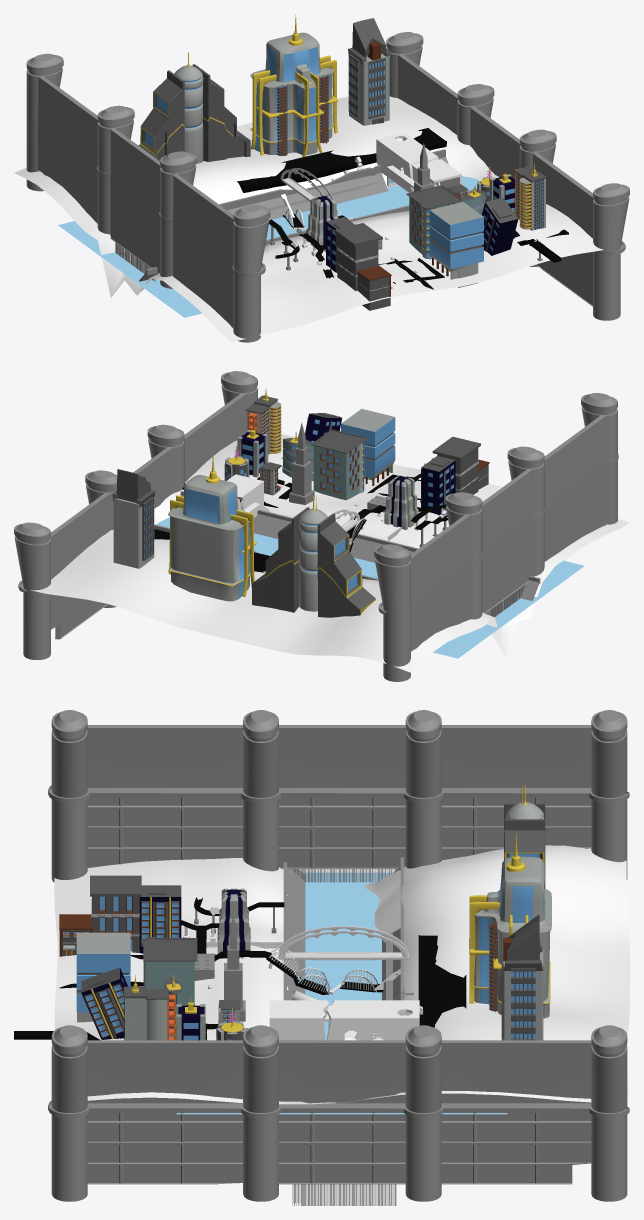
The model's file is NotFishAssets 1.fbx.
3 views of the same model, one above another, from view 1: azimuth 30°, elevation 25°; view 2: azimuth 150°, elevation 25°; view 3: azimuth 270°, elevation 25° (orthographic). The views are drawn at different scales.
Parts seen in each view (by area): view 1: GrandeBarragemDeAgua, Terreno, GrandeBarragemDeAgua.001, Predio, Cylinder.003, Agua, Decoração, Predio4, PredioCaido, SegundaRua, Predio.002, Predio2 (+17 smaller); view 2: GrandeBarragemDeAgua, Terreno, GrandeBarragemDeAgua.001, Predio, Cylinder.003, Predio5, Predio.002, Agua, Predio4, Decoração, Cylinder.002, Predio2 (+11 smaller); view 3: GrandeBarragemDeAgua.001, GrandeBarragemDeAgua, Terreno, Agua, Predio, PredioCaido, Decoração, Predio2, Predio.002, Predio4, SegundaRua, Predio5 (+13 smaller).
Boxes of the visible parts, box(x1,y1,x2,y2) form: GrandeBarragemDeAgua: box(26, 53, 270, 342); Terreno: box(14, 96, 603, 341); GrandeBarragemDeAgua.001: box(386, 32, 629, 320); Predio: box(250, 15, 338, 156); Cylinder.003: box(138, 64, 250, 161); Agua: box(58, 176, 480, 317); Decoração: box(121, 149, 477, 281); Predio4: box(429, 202, 483, 287); PredioCaido: box(376, 132, 461, 192); SegundaRua: box(237, 128, 446, 192); Predio.002: box(348, 18, 390, 125); Predio2: box(334, 223, 382, 290); GrandeBarragemDeAgua: box(374, 393, 618, 681); Terreno: box(31, 434, 629, 672); GrandeBarragemDeAgua.001: box(14, 371, 257, 659); Predio: box(167, 453, 256, 601); Cylinder.003: box(251, 507, 375, 617); Predio5: box(311, 429, 366, 499); Predio.002: box(112, 469, 155, 568); Agua: box(157, 517, 584, 658); Predio4: box(341, 408, 395, 485); Decoração: box(154, 491, 540, 600); Cylinder.002: box(299, 495, 327, 611); Predio2: box(432, 436, 480, 494); GrandeBarragemDeAgua.001: box(48, 1025, 629, 1205); GrandeBarragemDeAgua: box(48, 710, 629, 882); Terreno: box(54, 845, 629, 1104); Agua: box(176, 872, 507, 1114); Predio: box(469, 832, 551, 1018); PredioCaido: box(269, 1000, 419, 1040); Decoração: box(182, 857, 413, 1000); Predio2: box(90, 875, 141, 952); Predio.002: box(501, 914, 543, 1040); Predio4: box(76, 932, 130, 1022); SegundaRua: box(418, 935, 466, 1027); Predio5: box(141, 937, 197, 1005).
Bounding box in the file's own units: 36477 × 19184 × 37006.
